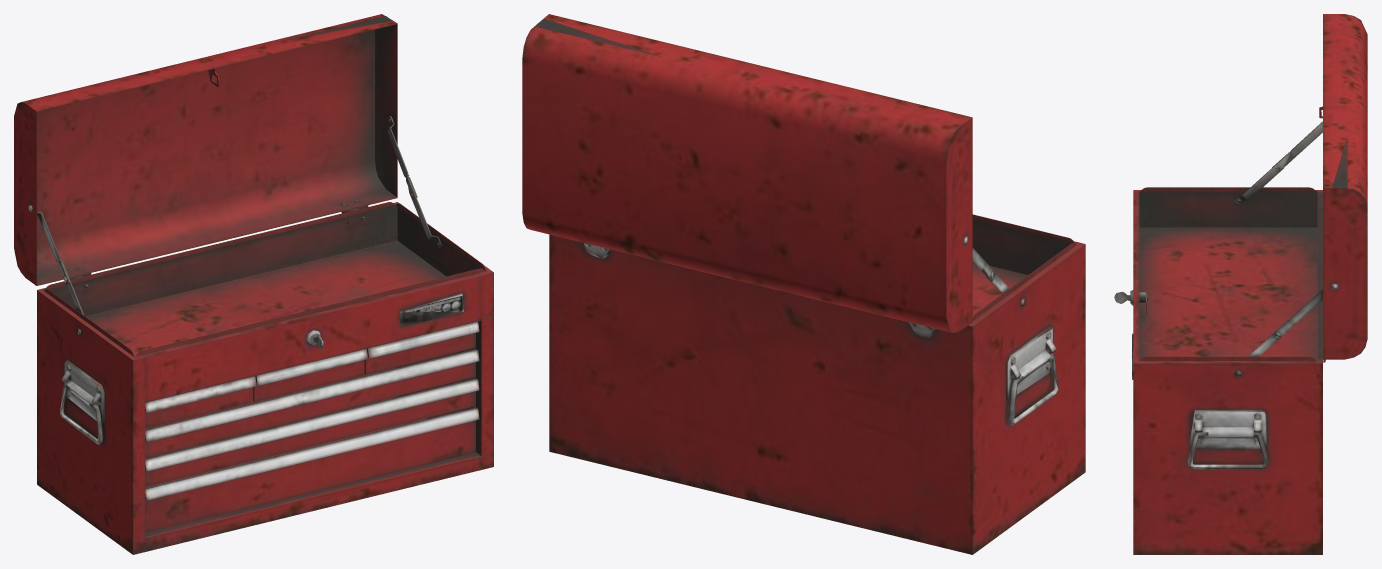
Rendered from tool_chest.glb.
3 views of the same model, side by side, from view 1: azimuth 30°, elevation 25°; view 2: azimuth 150°, elevation 25°; view 3: azimuth 270°, elevation 25° (orthographic). The views are drawn at different scales.
Parts seen in each view (by area): view 1: metal_tool_chest_chest, metal_tool_chest_lid, metal_tool_chest_hinge_lid, metal_tool_chest_hinge_chest, metal_tool_chest_handle_left; view 2: metal_tool_chest_chest, metal_tool_chest_lid, metal_tool_chest_handle_left; view 3: metal_tool_chest_chest, metal_tool_chest_lid, metal_tool_chest_hinge_lid, metal_tool_chest_hinge_chest, metal_tool_chest_handle_right.
Boxes of the visible parts, left/top/right/bottom form: metal_tool_chest_chest: left=37, top=202, right=493, bottom=554; metal_tool_chest_lid: left=14, top=14, right=397, bottom=285; metal_tool_chest_hinge_lid: left=28, top=116, right=417, bottom=285; metal_tool_chest_hinge_chest: left=59, top=175, right=441, bottom=335; metal_tool_chest_handle_left: left=60, top=383, right=102, bottom=444; metal_tool_chest_chest: left=549, top=214, right=1085, bottom=554; metal_tool_chest_lid: left=522, top=14, right=972, bottom=333; metal_tool_chest_handle_left: left=1008, top=354, right=1058, bottom=425; metal_tool_chest_chest: left=1132, top=187, right=1325, bottom=554; metal_tool_chest_lid: left=1319, top=14, right=1367, bottom=359; metal_tool_chest_hinge_lid: left=1272, top=121, right=1338, bottom=340; metal_tool_chest_hinge_chest: left=1234, top=152, right=1290, bottom=376; metal_tool_chest_handle_right: left=1187, top=432, right=1268, bottom=469.
Size of the model in its own units: 0.6847 by 0.6518 by 0.4072.
Materials: 1 (1 with a texture image).
